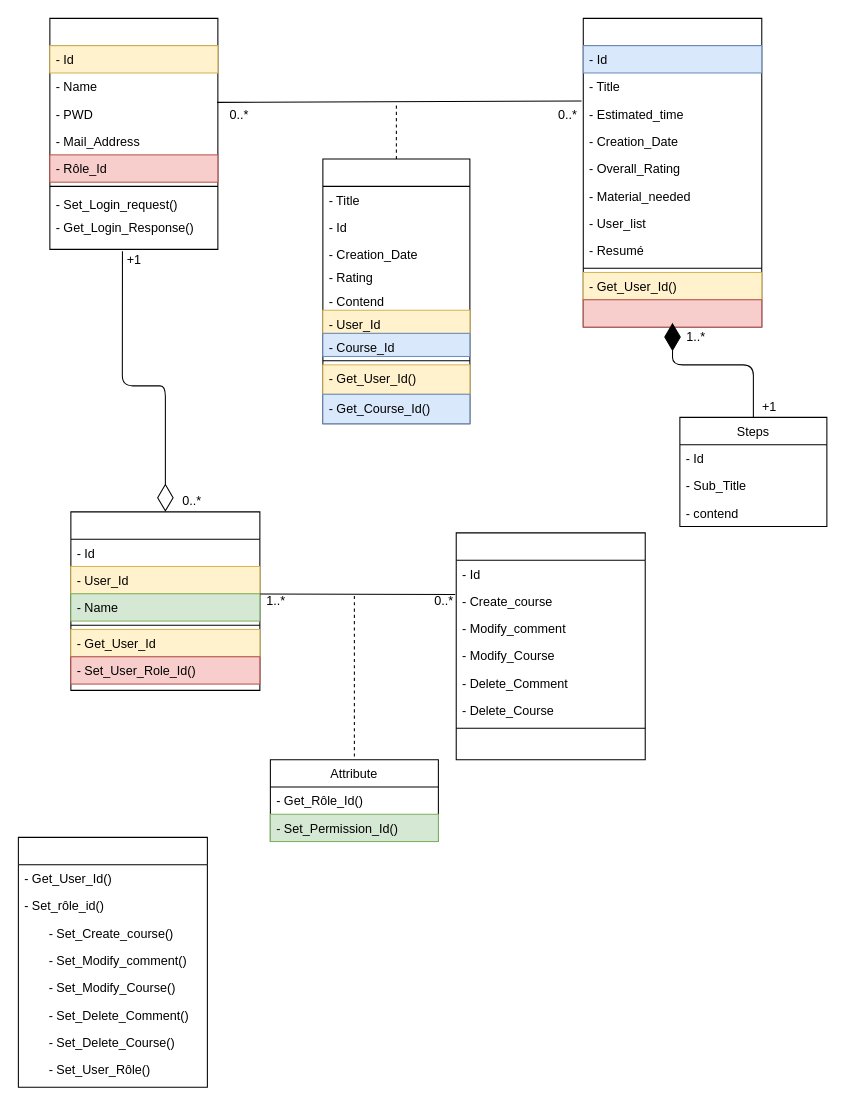
Some shapes in this 845 by 1106 pixel diagram are drawn without their labels. Each missing label, with the box of its shape:
- Get_User_Rôle(): (582, 299, 762, 327)
Cours: (582, 17, 762, 327)
Permissions: (455, 532, 645, 760)
Reviews: (322, 158, 470, 424)
Rôles: (70, 511, 260, 690)
Super User: (17, 836, 207, 1087)
User: (49, 17, 218, 249)
